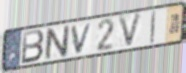2: (96, 18, 116, 53)
B: (20, 28, 46, 65)
I: (149, 10, 157, 45)
N: (44, 24, 71, 62)
V: (116, 10, 144, 51), (70, 21, 94, 55)
